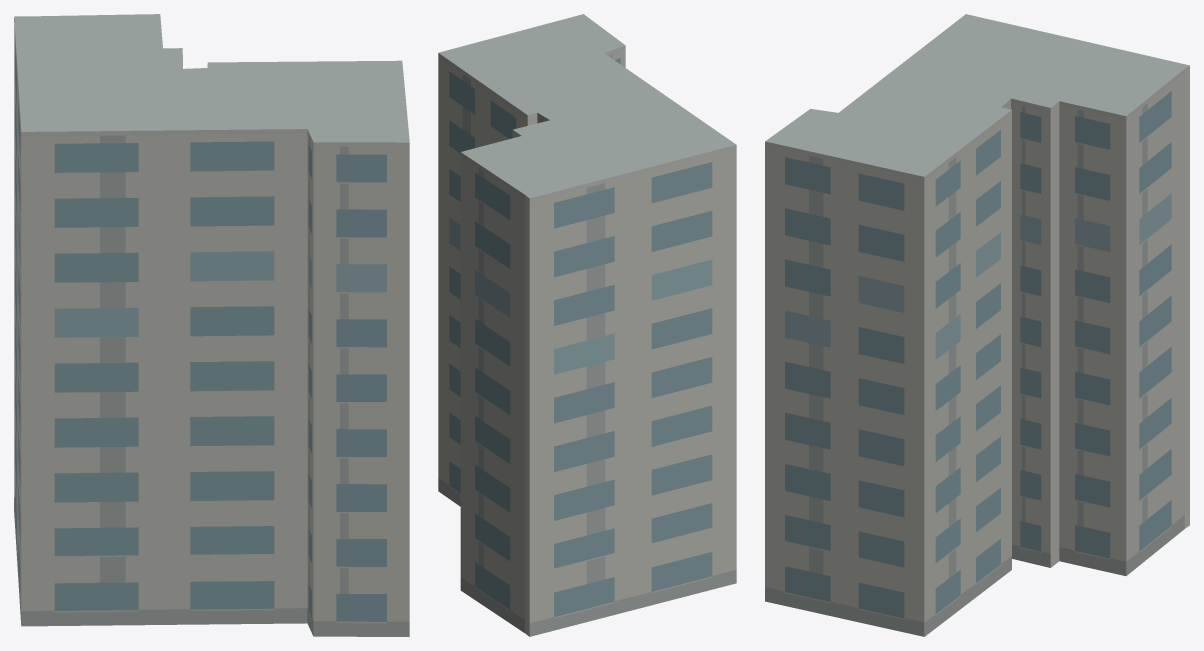
File: survey-upis-32877622.glb
3 views of the same model, side by side, from view 1: azimuth 30°, elevation 25°; view 2: azimuth 150°, elevation 25°; view 3: azimuth 270°, elevation 25° (orthographic). The views are drawn at different scales.
Parts seen in each view (by area): view 1: survey-upis-32877622.tmp; view 2: survey-upis-32877622.tmp; view 3: survey-upis-32877622.tmp.
Part boxes in pixels (x1=…): survey-upis-32877622.tmp: x1=14, y1=14, x2=409, y2=636; survey-upis-32877622.tmp: x1=438, y1=14, x2=736, y2=636; survey-upis-32877622.tmp: x1=765, y1=14, x2=1189, y2=636.
Bounding box in the file's own units: 19.37 × 25.5 × 21.35.
